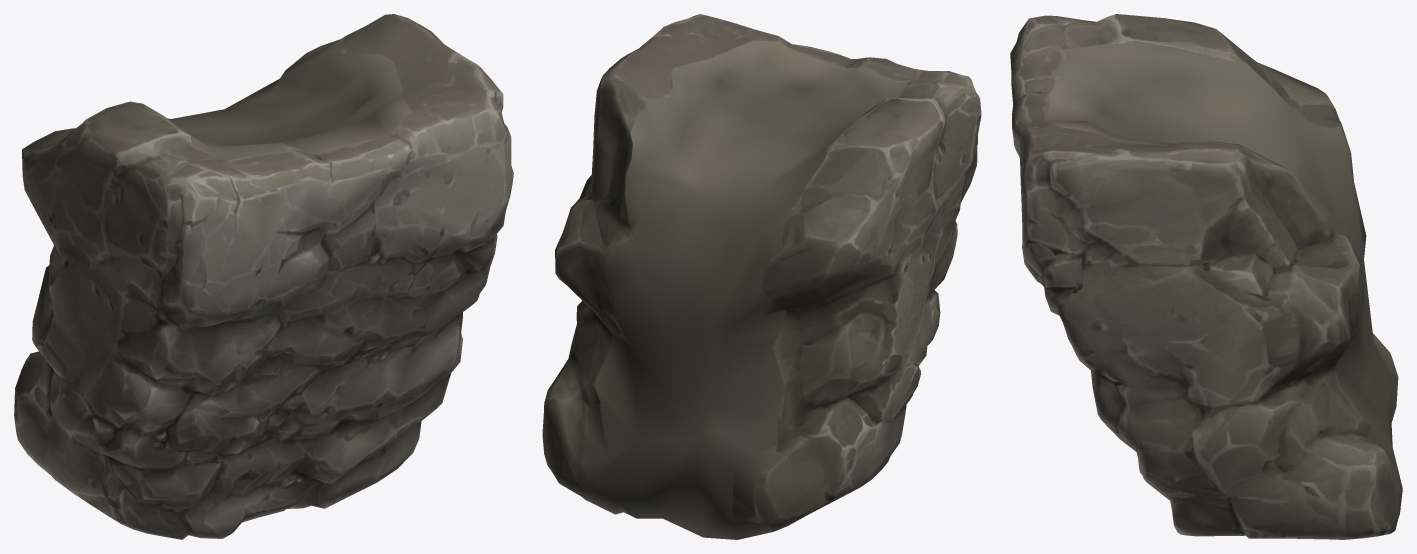
File: Dn_HL_Stairs_Rock_B.fbx
3 renders of one model, left to right at view 1: azimuth 30°, elevation 25°; view 2: azimuth 150°, elevation 25°; view 3: azimuth 270°, elevation 25°, orthographic. The views are drawn at different scales.
Parts seen in each view (by area): view 1: Dn_HL_Stairs_Rock_B; view 2: Dn_HL_Stairs_Rock_B; view 3: Dn_HL_Stairs_Rock_B.
Boxes of the visible parts, box(x1,y1,x2,y2) form: Dn_HL_Stairs_Rock_B: box(14, 14, 513, 539); Dn_HL_Stairs_Rock_B: box(542, 14, 981, 539); Dn_HL_Stairs_Rock_B: box(1010, 14, 1402, 539).
Bounding box in the file's own units: 850 × 1023 × 849.
1 material, 1 textured.
